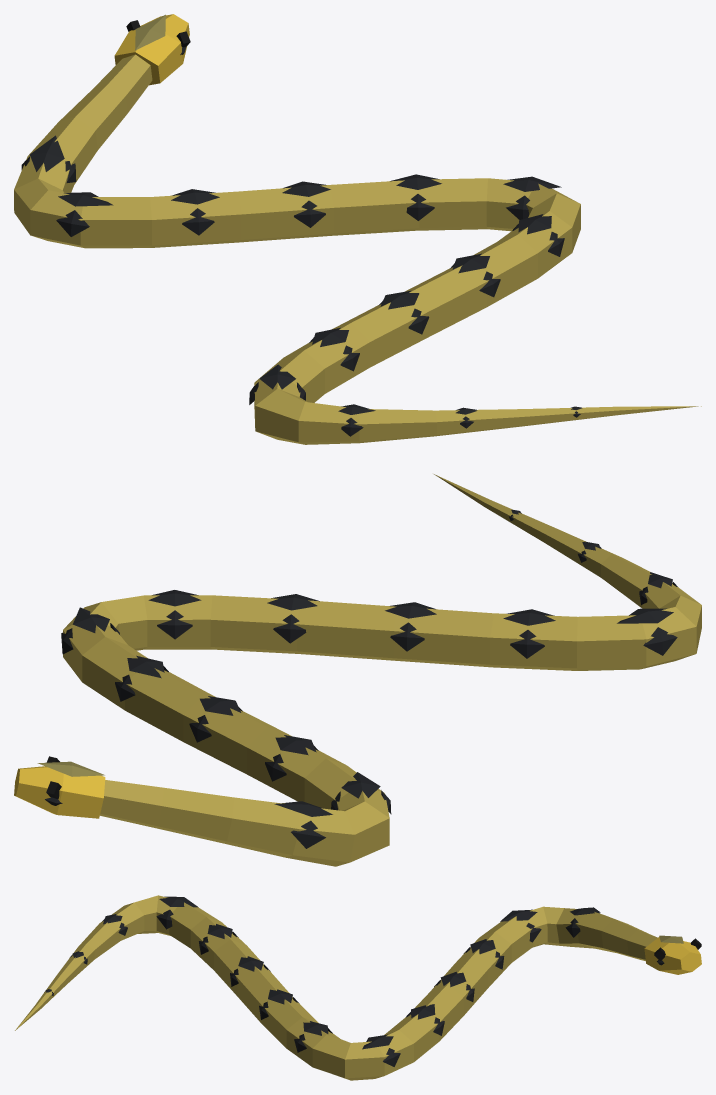
Rendered from cobra_dagua.glb.
3 views of the same model, one above another, from view 1: azimuth 30°, elevation 25°; view 2: azimuth 150°, elevation 25°; view 3: azimuth 270°, elevation 25° (orthographic). The views are drawn at different scales.
Parts seen in each view (by area): view 1: corpo; view 2: corpo; view 3: corpo.
Part boxes in pixels (left/top/right/bottom): corpo: left=14, top=14, right=701, bottom=444; corpo: left=14, top=474, right=701, bottom=866; corpo: left=15, top=895, right=701, bottom=1080.
Bounding box in the file's own units: 0.5586 × 0.1242 × 1.
